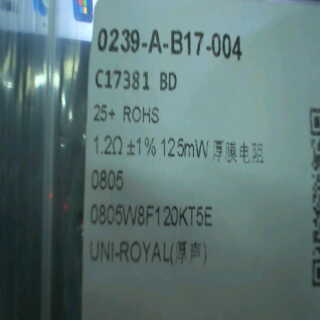1.2R: (88, 129, 128, 199)
